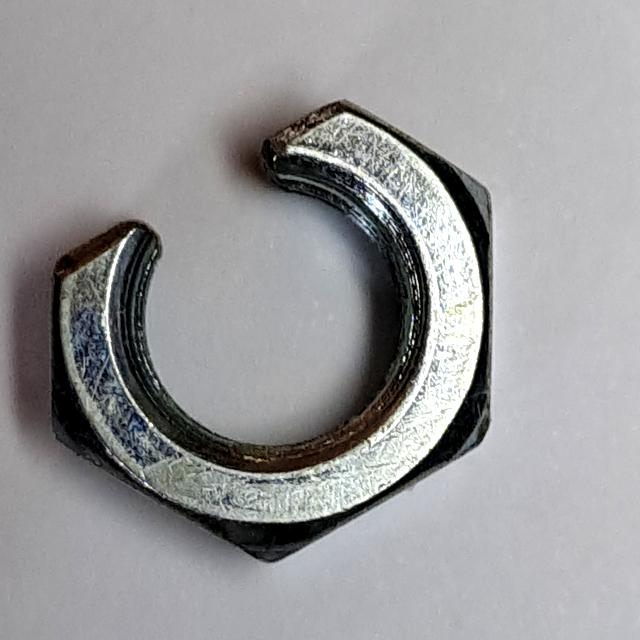Fracture: (36, 85, 514, 581)
